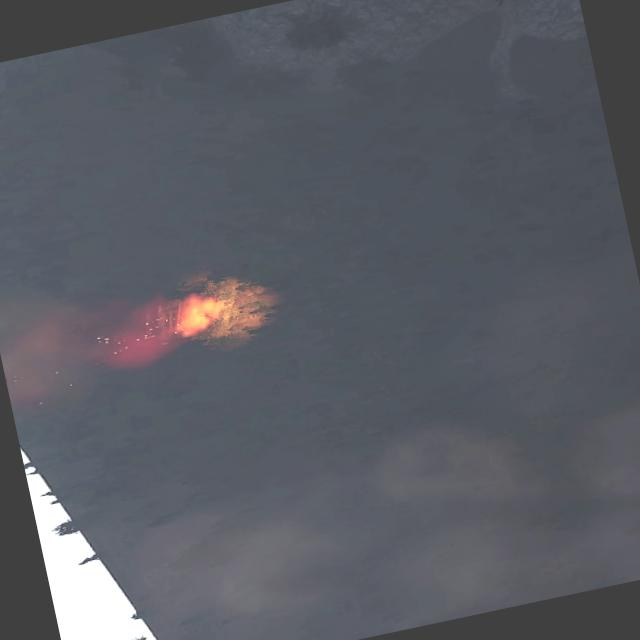fire: (164, 286, 226, 340)
smoke: (0, 0, 640, 640), (0, 267, 178, 410)
